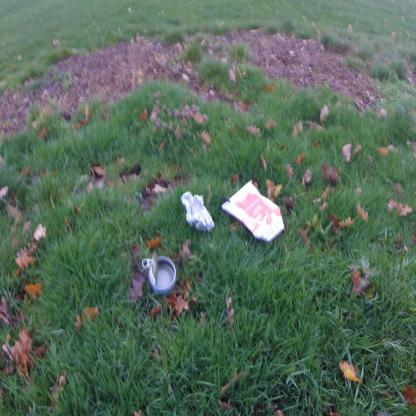karton: (221, 180, 285, 244)
metal: (142, 250, 177, 296), (180, 192, 214, 232)
